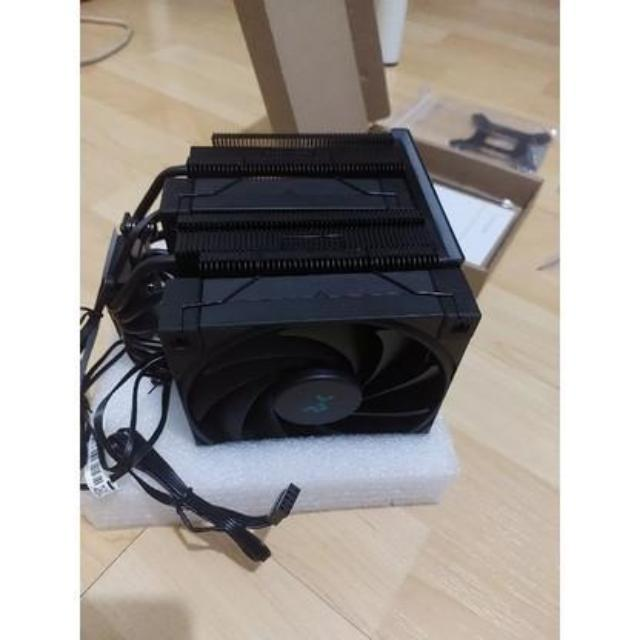CPU_Fan: (102, 126, 482, 444)
